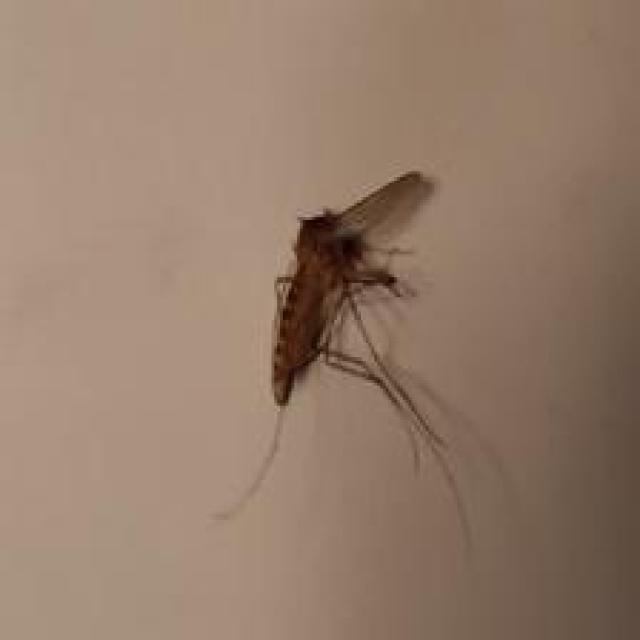Culex: (208, 168, 512, 566)
